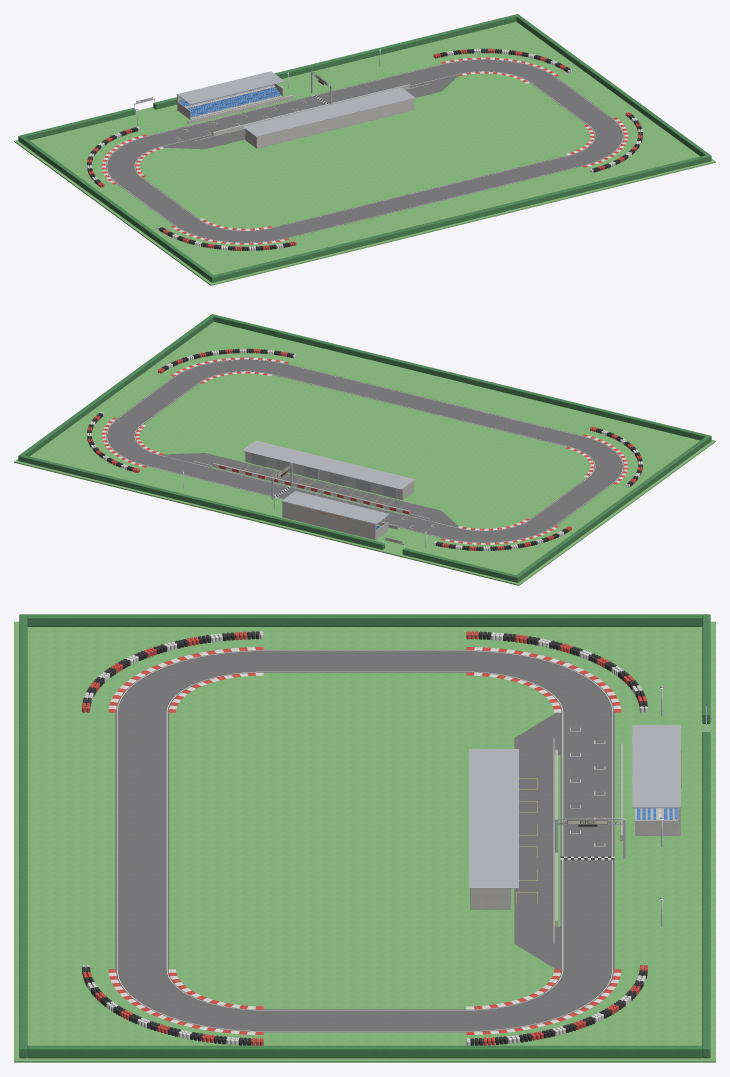
The model's file is racetrack.glb.
3 renders of one model, top to bottom at view 1: azimuth 30°, elevation 25°; view 2: azimuth 150°, elevation 25°; view 3: azimuth 270°, elevation 25°, orthographic. The views are drawn at different scales.
Parts seen in each view (by area): view 1: Grass, Asphalt, Hedge, Steel, Concrete, Paint_White, Tyre_Black, Curb_Red, Curb_White, Plastic_Blue, Tyre_Red, Tyre_White; view 2: Grass, Asphalt, Hedge, Steel, Concrete, Paint_White, Curb_Red, Curb_White, Tyre_Black, Shutter, Tyre_Red, Tyre_White; view 3: Grass, Asphalt, Hedge, Steel, Paint_White, Tyre_Black, Curb_Red, Curb_White, Concrete, Tyre_Red, Tyre_White.
Part boxes in pixels (x1,y1,x2,y2): Grass: (14,21,715,285); Asphalt: (106,59,623,242); Hedge: (18,14,711,282); Steel: (134,49,415,136); Concrete: (177,83,413,148); Paint_White: (106,59,623,242); Tyre_Black: (87,48,642,250); Curb_Red: (102,57,627,244); Curb_White: (102,57,627,244); Plastic_Blue: (179,84,280,117); Tyre_Red: (87,48,642,250); Tyre_White: (87,48,642,250); Grass: (14,321,715,585); Asphalt: (106,359,623,542); Hedge: (18,314,711,582); Steel: (182,440,426,548); Concrete: (212,452,413,539); Paint_White: (106,359,623,542); Curb_Red: (102,357,627,544); Curb_White: (102,357,627,544); Tyre_Black: (87,348,642,550); Shutter: (251,453,396,498); Tyre_Red: (87,349,642,550); Tyre_White: (87,348,642,550); Grass: (14,621,715,1062); Asphalt: (115,650,614,1032); Hedge: (19,614,710,1058); Steel: (469,686,706,926); Paint_White: (117,650,614,1031); Tyre_Black: (82,631,647,1045); Curb_Red: (108,647,621,1034); Curb_White: (108,647,621,1034); Concrete: (470,743,680,926); Tyre_Red: (82,631,647,1045); Tyre_White: (82,631,647,1045).
Size of the model in its own units: 154 by 6.7 by 104.
Materials: 19 (6 with a texture image).
